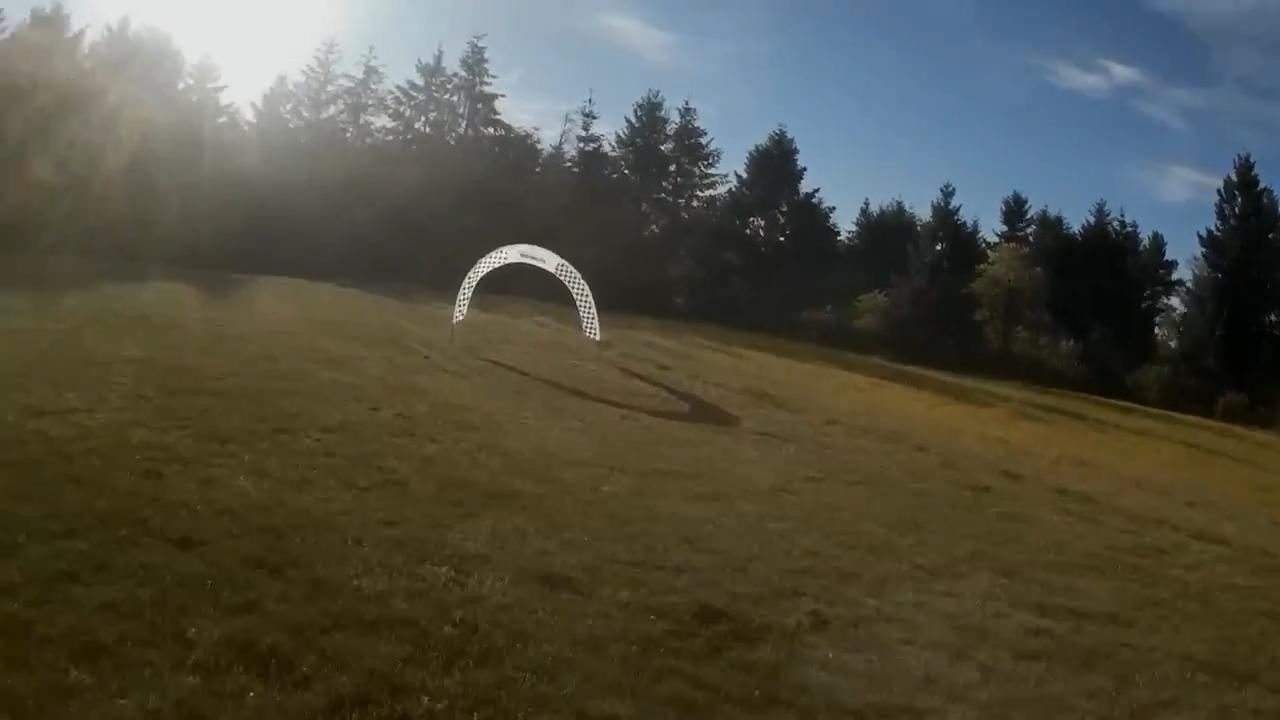gate: (451, 242, 600, 343)
